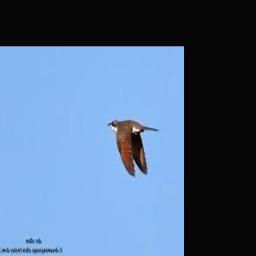Cuckoo: (108, 119, 161, 175)
